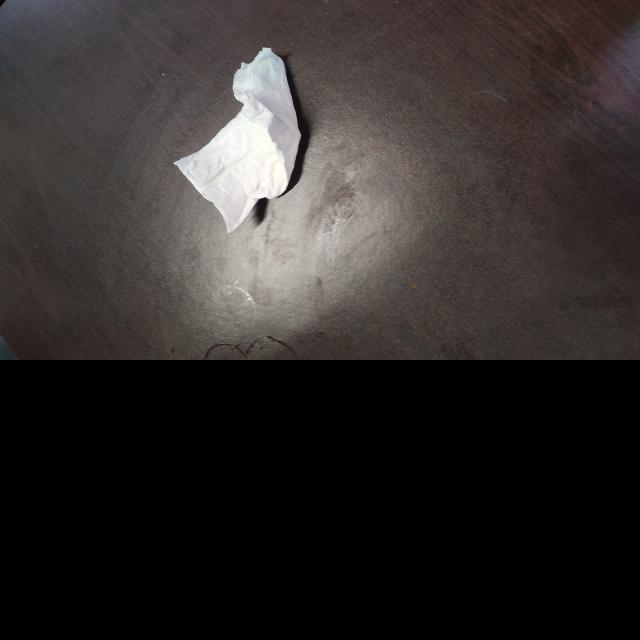kitchen paper: (170, 42, 308, 238)
